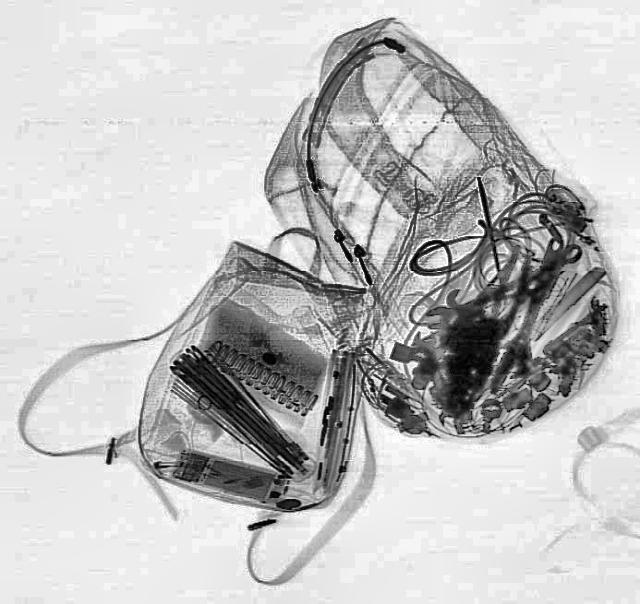Wrench: (418, 238, 586, 334), (486, 234, 572, 398)
